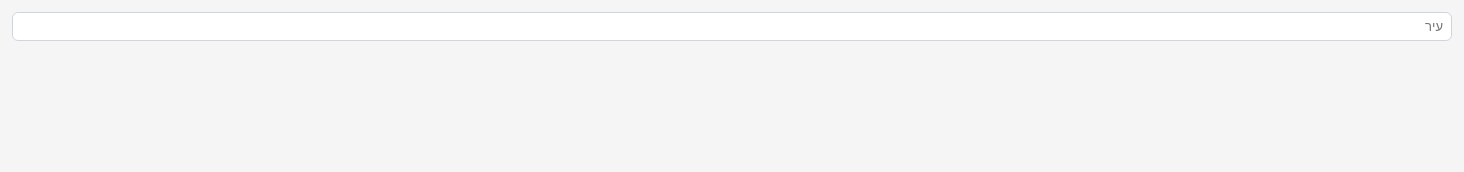
Test: Combobox › Escape closes the dropdown
This screenshot has width=1464, height=172.
Focus the dropdown with placeholder "עיר": {"x": 732, "y": 26} 12,12 -> 1452,41
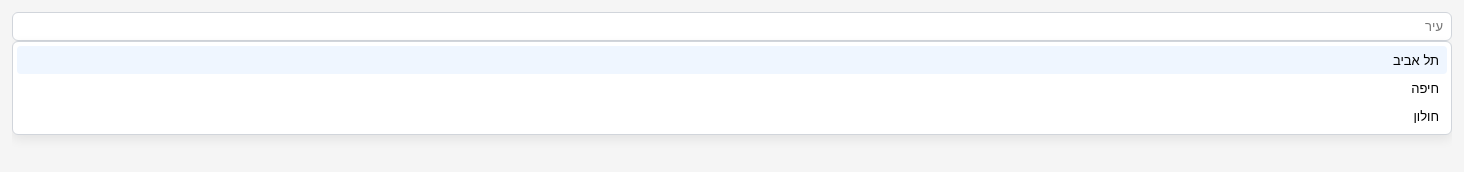
Result: the list is shown at 12,41 -> 1452,135
Press Escape in the dropdown with placeholder "עיר", box 12,12 -> 1452,41
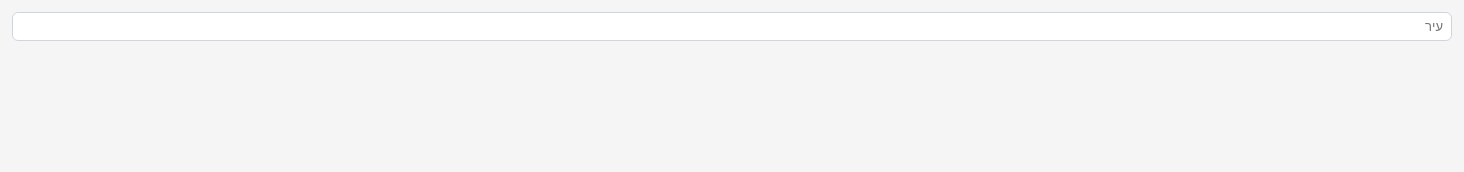
Result: the list is gone
